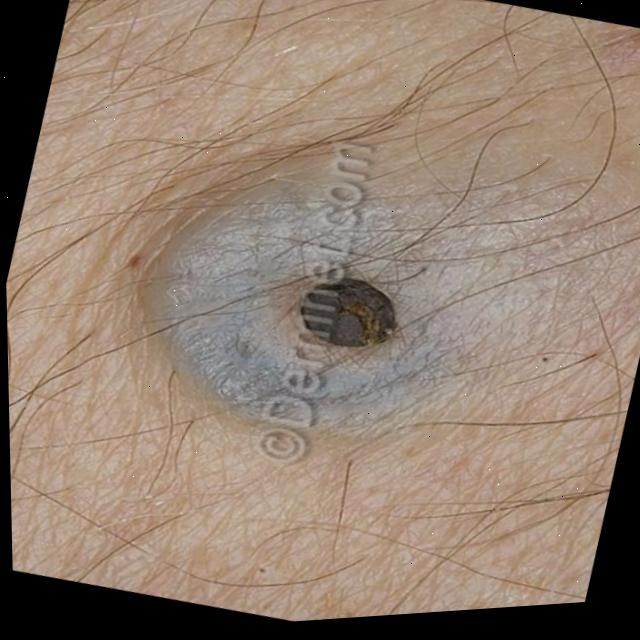Eczema: (107, 131, 487, 493)
